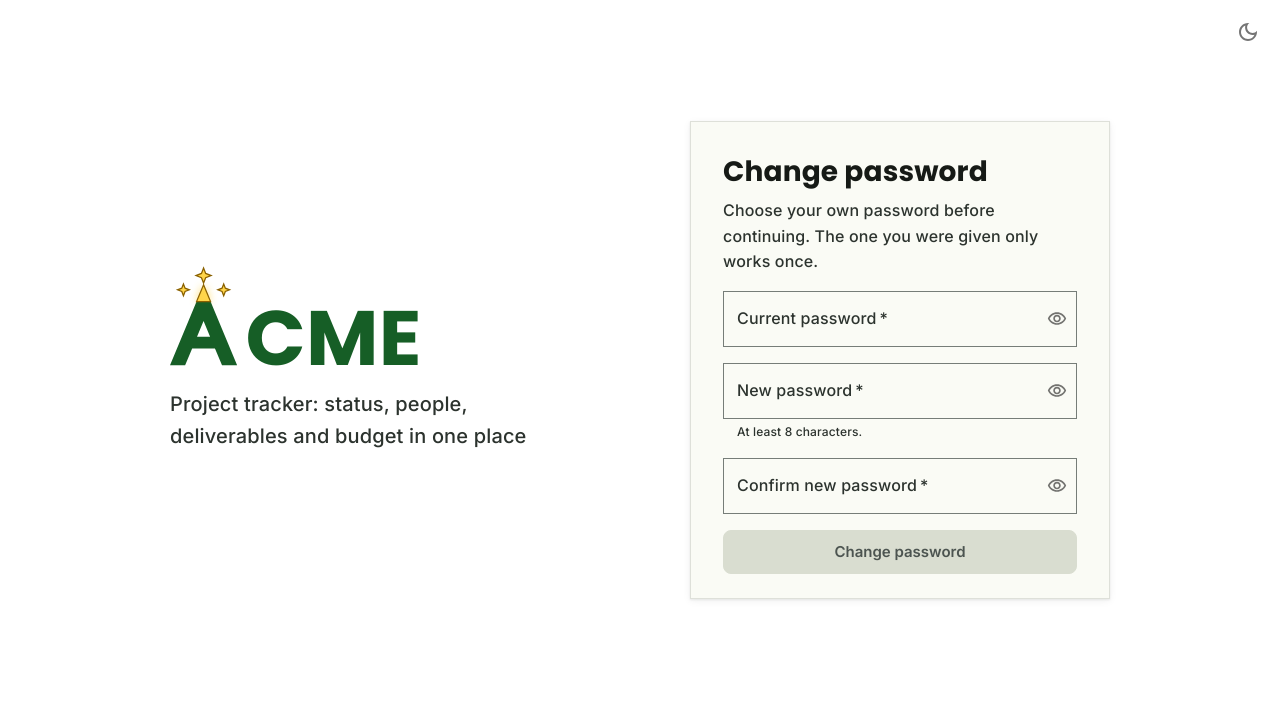
Test: ChangePasswordPage › shows the server's field error on that field
Type "Generated-123" into the password field labelled "Current password *". click: (877, 319)
box: [723,291,1031,347]
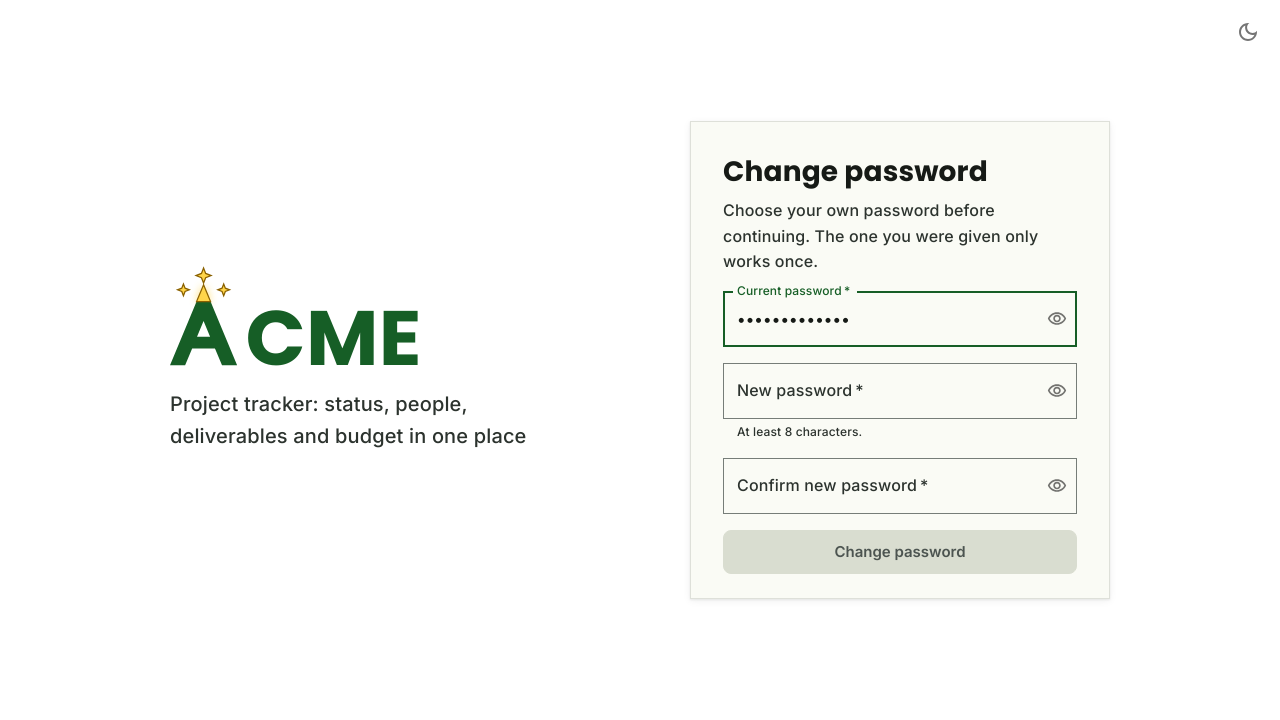
Type "short" into the password field labelled "New password *". click: (877, 391)
box: [723,363,1031,419]
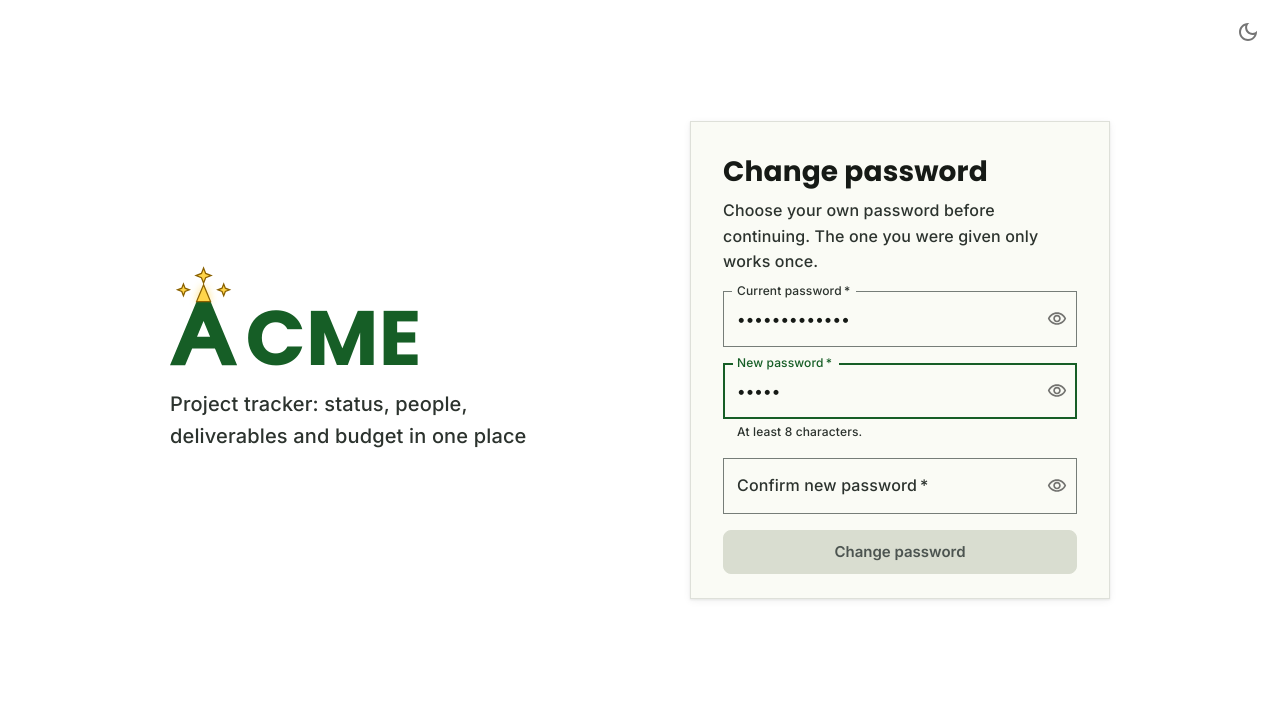
Type "short" into the password field labelled "Confirm new password *". click: (877, 486)
box: [723,458,1031,514]
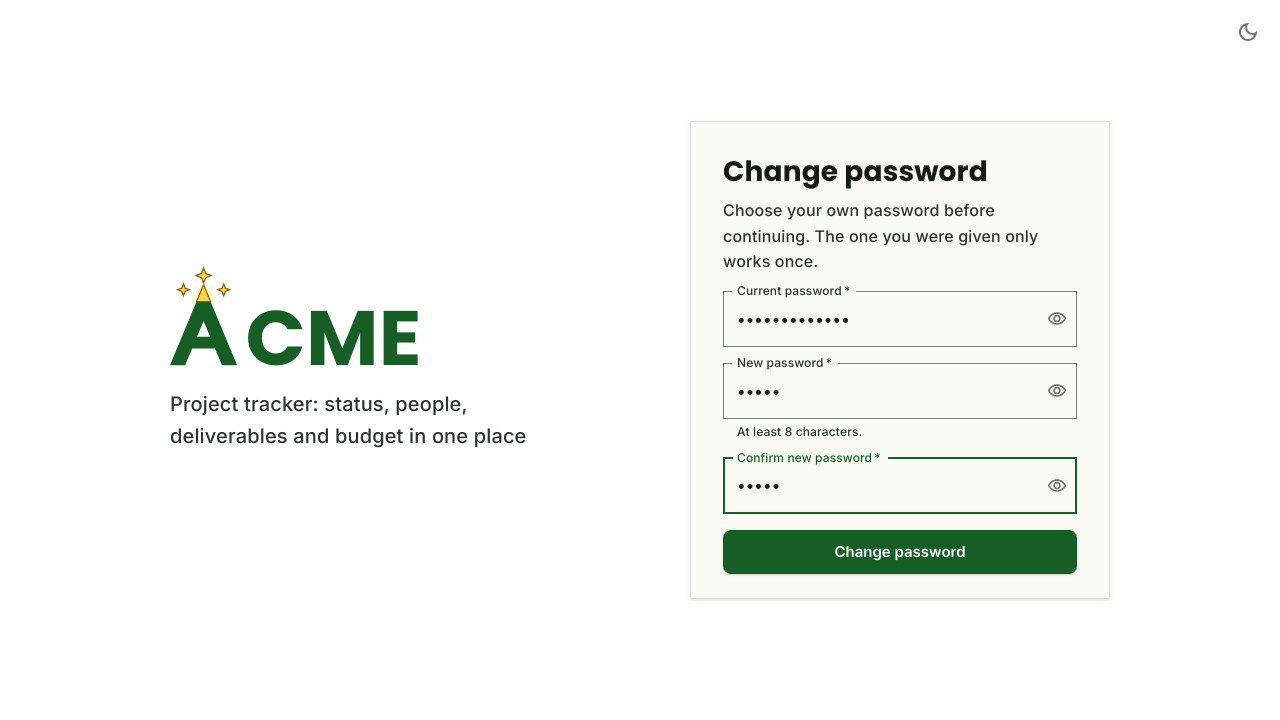
Click the button "Change password". click: (900, 552)
box: [723,530,1077,574]
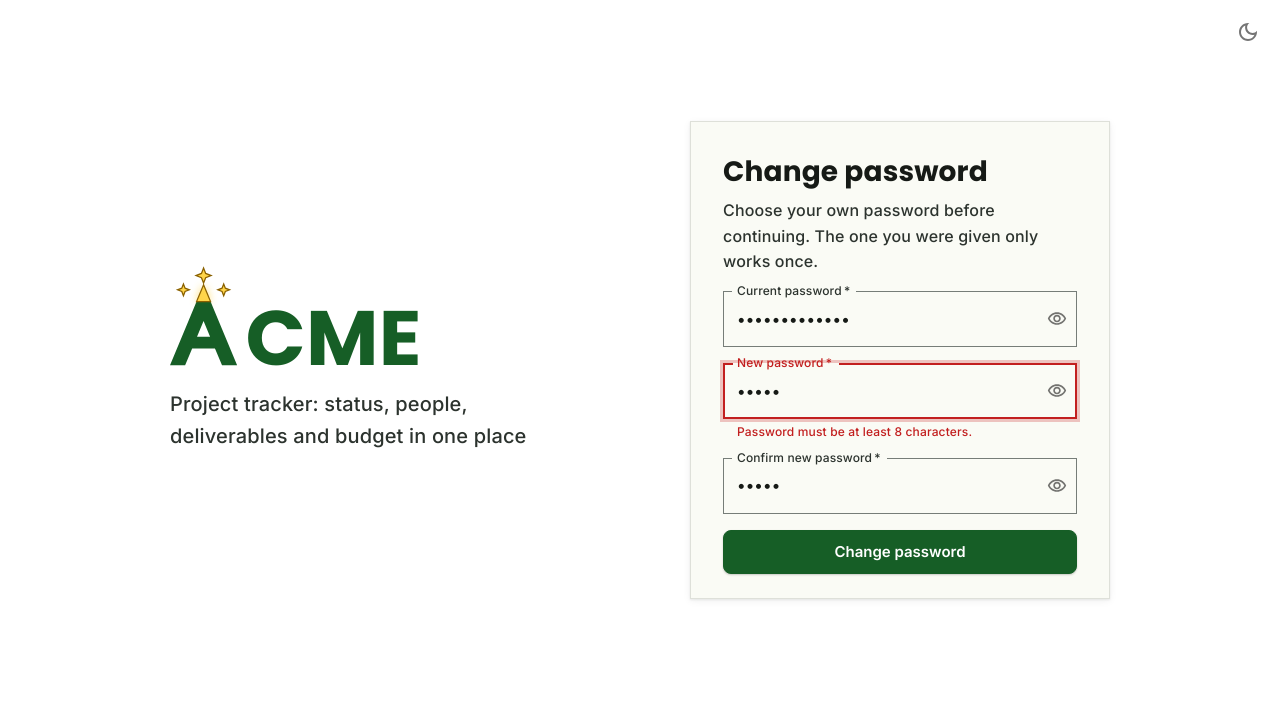
Result: the text "Password must be at least 8 characters." is shown at [737,424,972,439]
